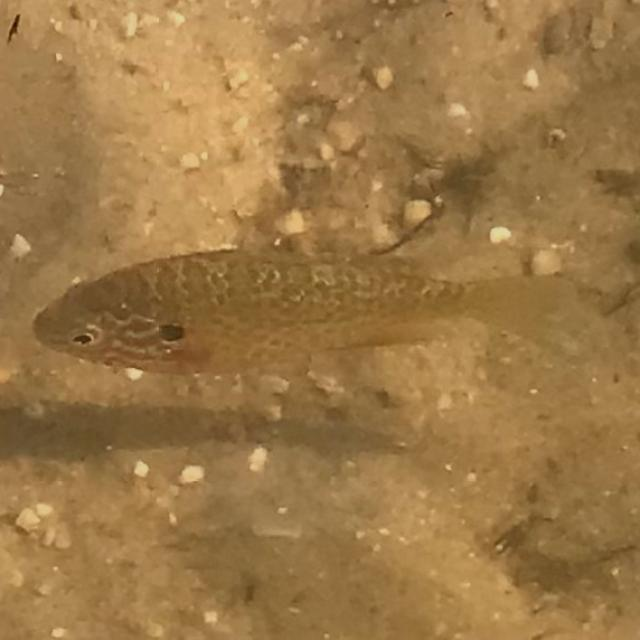Gunes Levregi: (28, 219, 596, 397)
